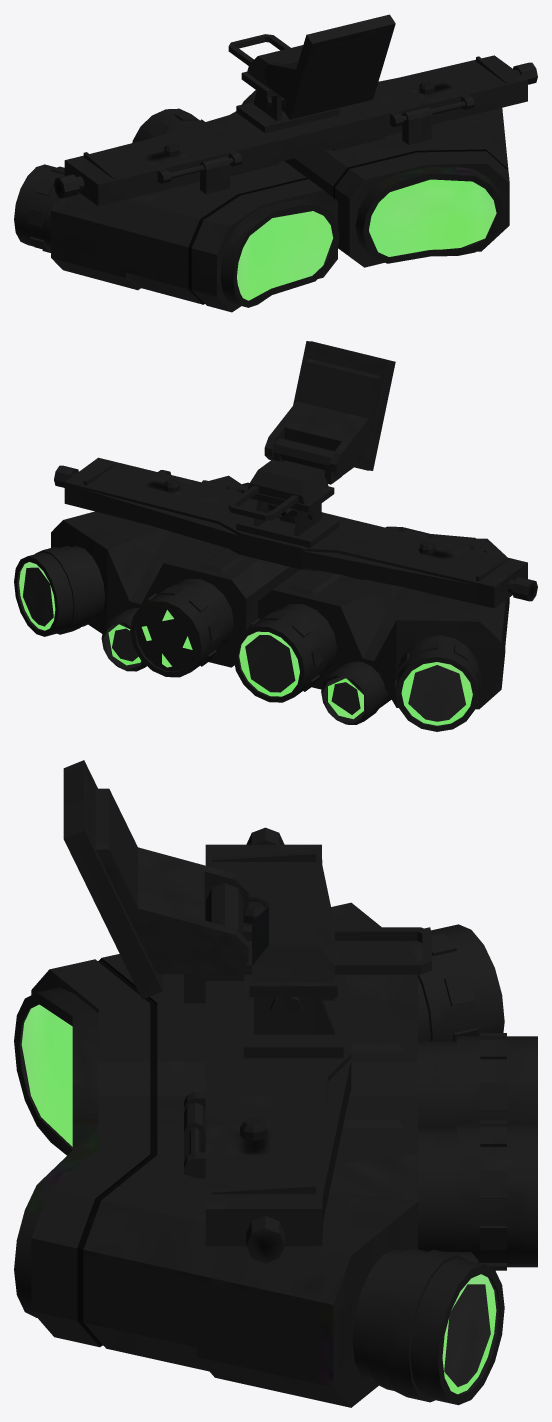
Rendered from goggles.glb.
3 renders of one model, top to bottom at view 1: azimuth 30°, elevation 25°; view 2: azimuth 150°, elevation 25°; view 3: azimuth 270°, elevation 25°, orthographic. The views are drawn at different scales.
Visible parts, largest first — view 1: Cube_Material_0; view 2: Cube_Material_0; view 3: Cube_Material_0.
Part boxes in pixels (box(x1,y1,x2,y2)): Cube_Material_0: box(14, 14, 537, 312); Cube_Material_0: box(14, 341, 537, 731); Cube_Material_0: box(14, 760, 537, 1407).
Bounding box in the file's own units: 0.16 × 0.0857 × 0.0884.
Materials: 1 (1 with a texture image).
